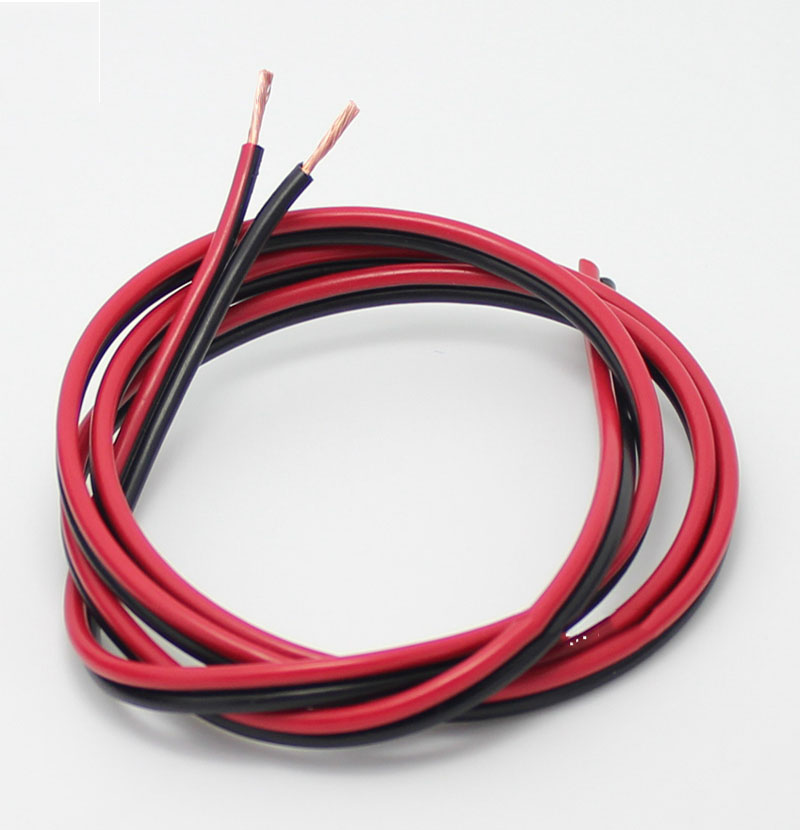Nonrec_Tangler: (25, 34, 760, 758)
